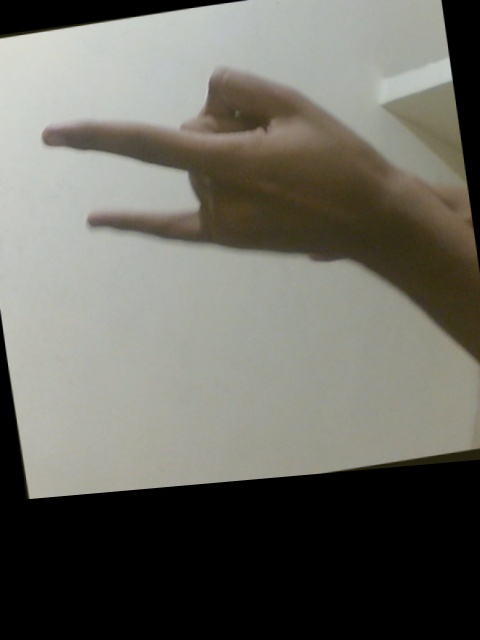hand: (37, 64, 386, 259)
